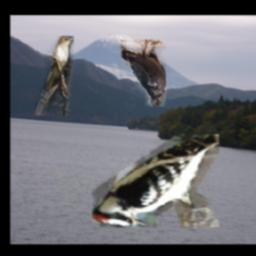Crow: (121, 40, 166, 107)
Cuckoo: (35, 37, 74, 116)
Woodpecker: (92, 134, 219, 227)
